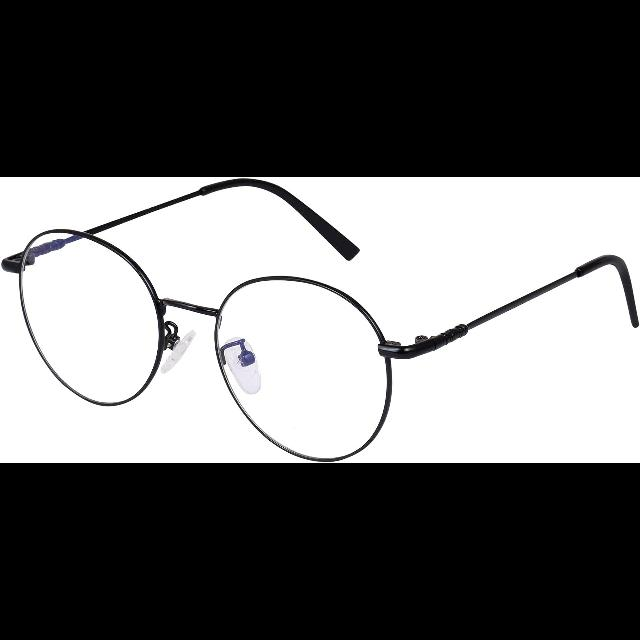glasses: (2, 178, 640, 462)
